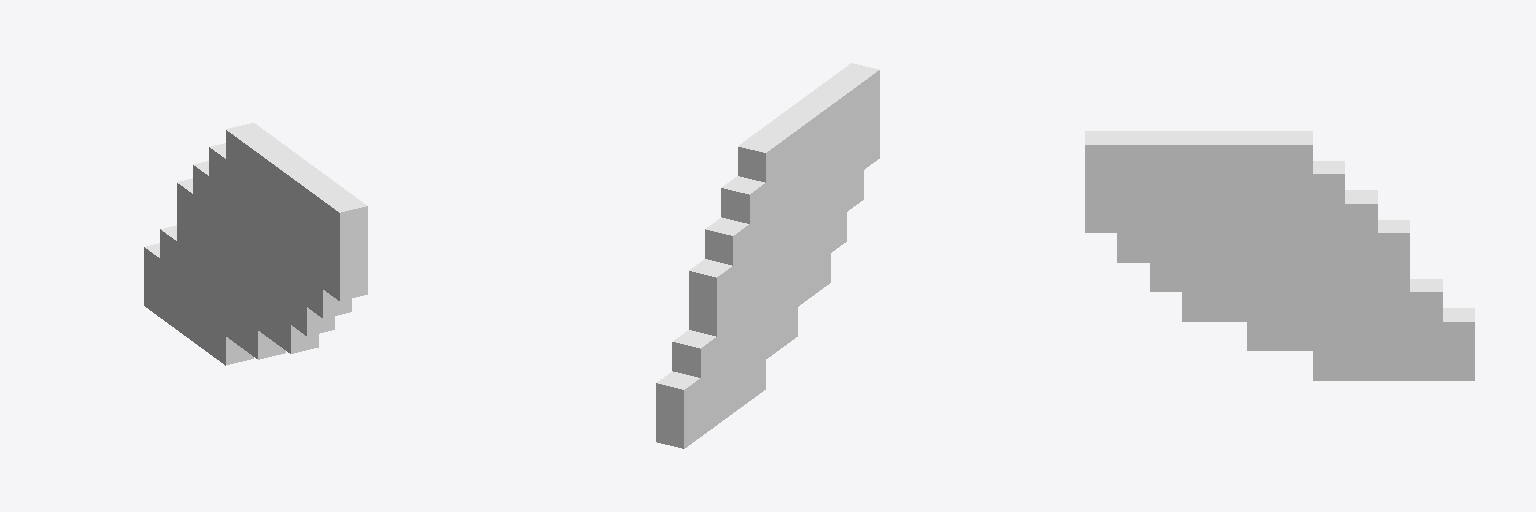
Rendered from sharkHand.obj.
3 views of the same model, side by side, from view 1: azimuth 30°, elevation 25°; view 2: azimuth 150°, elevation 25°; view 3: azimuth 270°, elevation 25° (orthographic).
Size of the model in its own units: 1 by 8 by 12.